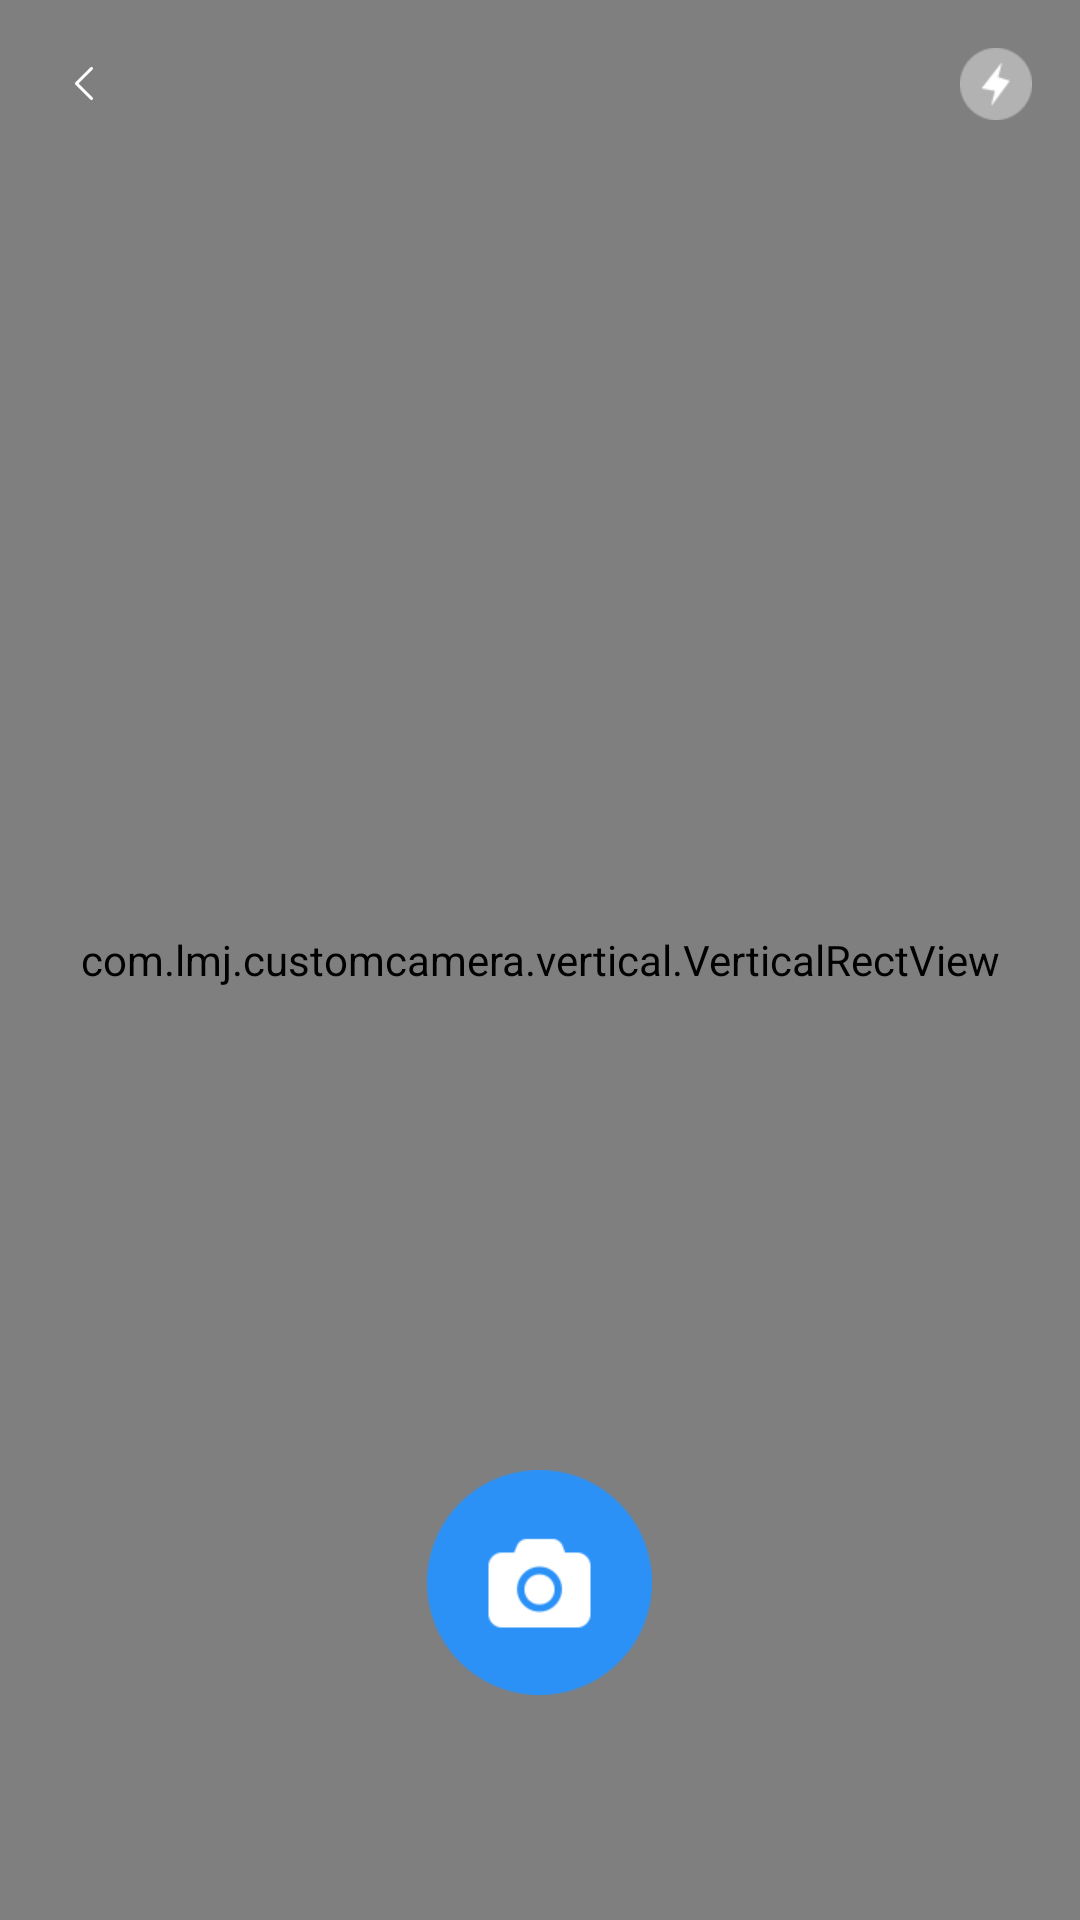

Where icons sit on this 1080×1920 app screen, as [x1, y1, x2, y2]:
arrowleft: [75, 67, 93, 100]
car camera: [427, 1470, 652, 1695]
car flash: [960, 48, 1032, 120]
